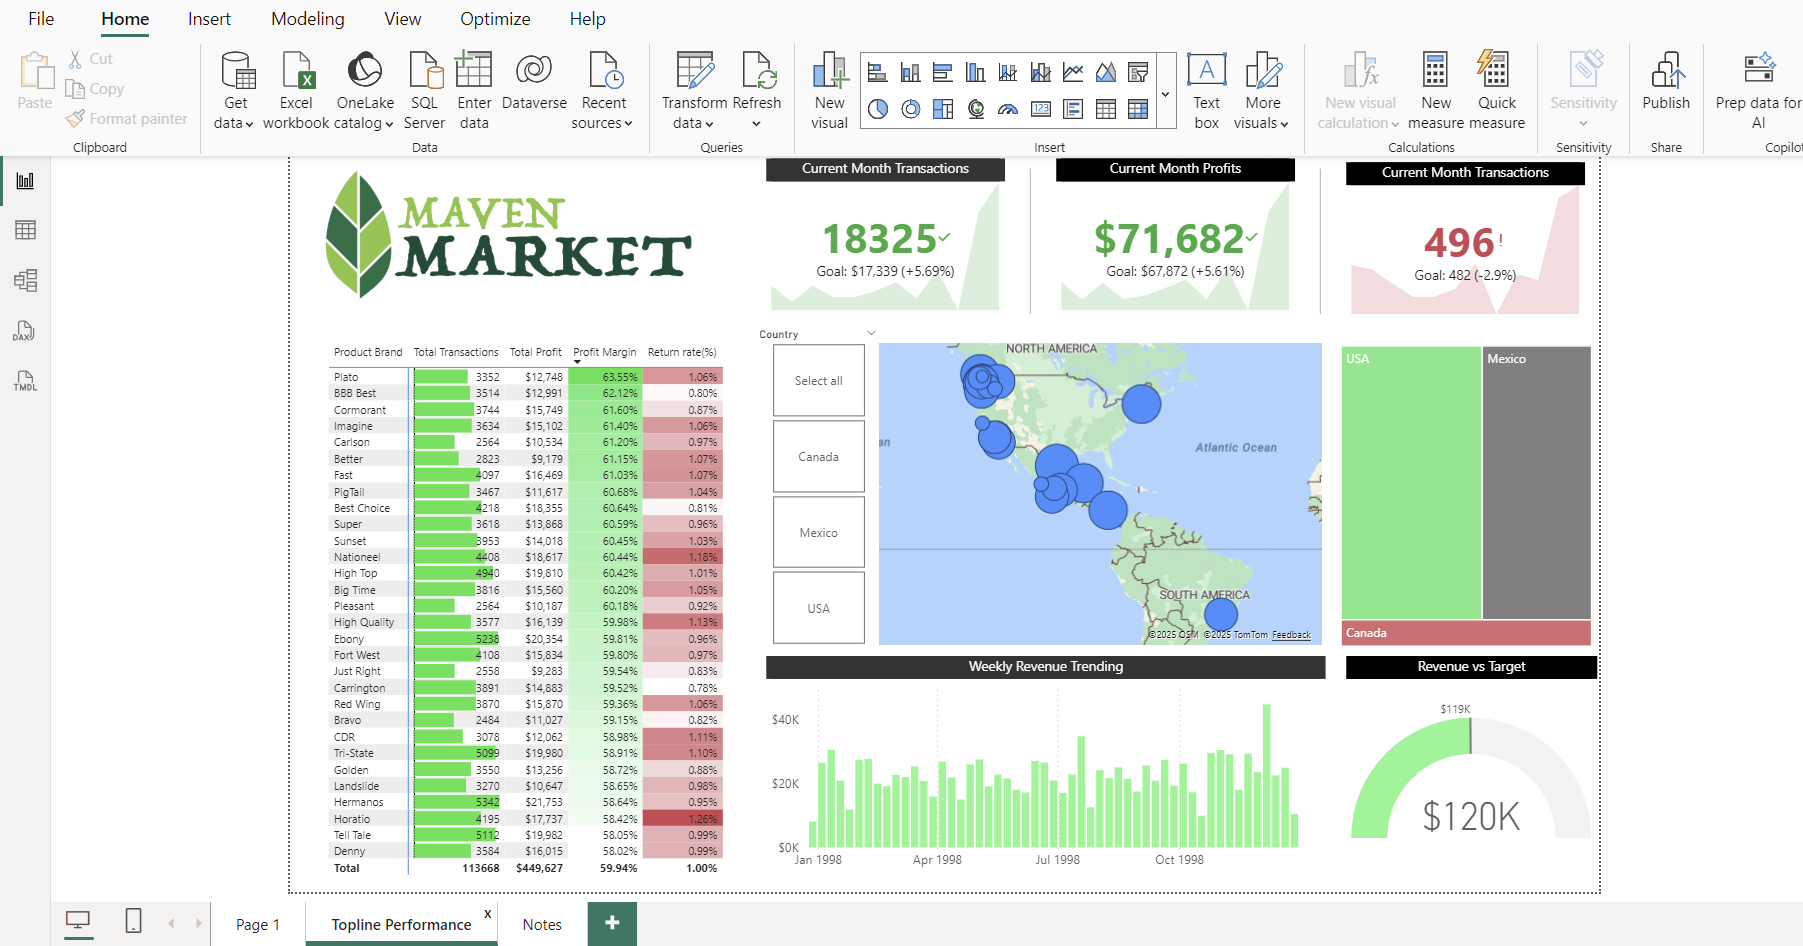

The page's visual inventory and layout, read from the dashboard file:
{"tool":"powerbi","page":{"name":"Topline Performance","canvas":[1280,720],"ordinal":1},"visuals":[{"type":"image","box":[9.9,0,404.9,153.1],"z":0},{"type":"pivotTable","fields":{"Rows":["Products.product_brand"],"Values":["Transaction_Data.Total Transactions","Transaction_Data.Total Profit","Transaction_Data.Profit Margin","Returns_data.Return rate(%)"]},"box":[32.5,178.8,413.8,533.8],"z":1000},{"type":"kpi","title":"Current Month Transactions","fields":{"Indicator":["Transaction_Data.Total Transactions"],"TrendLine":["Calendar.Start of the Month"],"Goal":["Transaction_Data.Last Month Transactions"]},"box":[466.3,2.7,233.3,153.6],"z":2000},{"type":"kpi","title":"Current Month Profits","fields":{"TrendLine":["Calendar.Start of the Month"],"Indicator":["Transaction_Data.Total Profit"],"Goal":["Transaction_Data.Last Month Profits"]},"box":[749.6,2.7,233.3,153.6],"z":3000},{"type":"kpi","title":"Current Month Transactions","fields":{"TrendLine":["Calendar.Start of the Month"],"Indicator":["Returns_data.Total Returns"],"Goal":["Transaction_Data.Last Month Returns"]},"box":[1032.9,6.3,233.3,153.6],"z":4000},{"type":"basicShape","box":[691.3,2.7,66.7,161.9],"z":5000},{"type":"basicShape","box":[974.6,2.7,66.7,161.9],"z":6000},{"type":"azureMap","fields":{"Category":["Stores.City"],"Size":["Transaction_Data.Total Transactions"]},"box":[571.2,178.8,442.5,305],"z":7000},{"type":"slicer","fields":{"Values":["Stores.Country"]},"box":[446.2,162.5,140,321.2],"z":8000},{"type":"treemap","fields":{"Values":["Transaction_Data.Total Transactions"],"Group":["Stores.Country","Stores.State or Province","Stores.City"]},"box":[1023.4,181.5,255,303.8],"z":9000},{"type":"columnChart","title":"Weekly Revenue Trending ","fields":{"Y":["Transaction_Data.Total Revenue"],"Category":["Calendar.Start of Week"]},"box":[466.2,488.8,547.5,217.5],"z":10000},{"type":"gauge","title":"Revenue vs Target","fields":{"Y":["Transaction_Data.Total Revenue"],"TargetValue":["Transaction_Data.Revenue Target"]},"box":[1033.3,489.3,245.2,197.6],"z":11000}]}

Visuals, with their boxes on the page's 1280x720 design canvas (x1, y1, x2, y2). These are canvas units, not pixel positions in the 1803x946 screenshot, which may show the page scaled, cropped or inside an application window:
image: box=[10, 0, 415, 153]
pivotTable - Products.product_brand x Transaction_Data.Total Transactions: box=[32, 179, 446, 713]
"Current Month Transactions" kpi: box=[466, 3, 700, 156]
"Current Month Profits" kpi: box=[750, 3, 983, 156]
"Current Month Transactions" kpi: box=[1033, 6, 1266, 160]
basicShape: box=[691, 3, 758, 165]
basicShape: box=[975, 3, 1041, 165]
azureMap - Stores.City x Transaction_Data.Total Transactions: box=[571, 179, 1014, 484]
slicer - Stores.Country: box=[446, 162, 586, 484]
treemap - Transaction_Data.Total Transactions x Stores.Country: box=[1023, 182, 1278, 485]
"Weekly Revenue Trending " columnChart: box=[466, 489, 1014, 706]
"Revenue vs Target" gauge: box=[1033, 489, 1278, 687]
